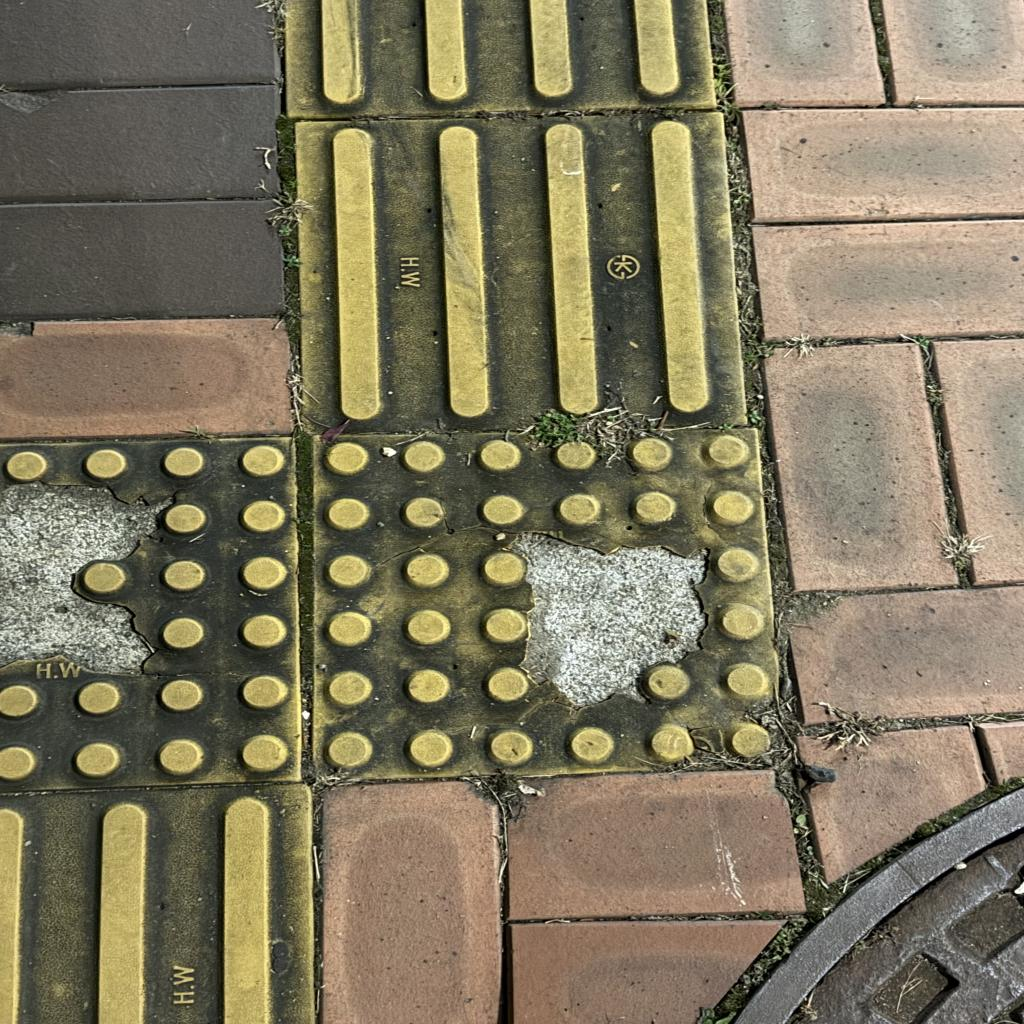Stop block broken: (308, 425, 786, 779)
Straight block normal: (302, 113, 745, 427)
